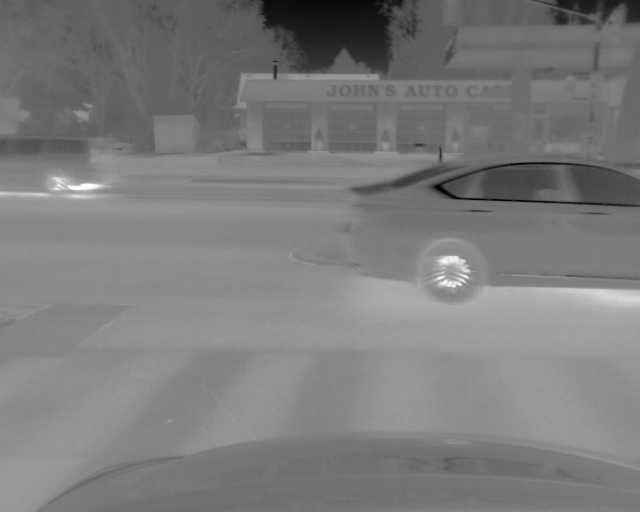car: (346, 154, 639, 307), (1, 133, 119, 196)
